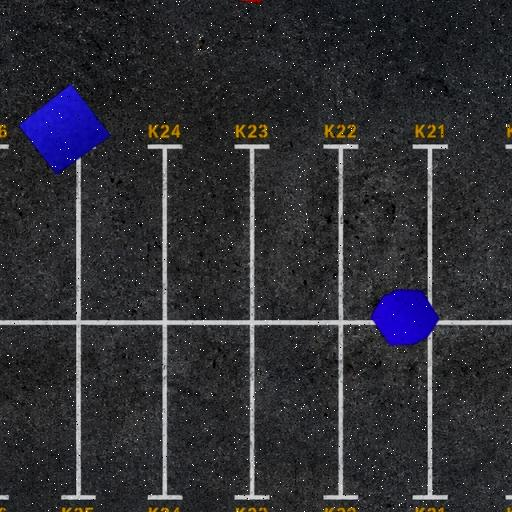BLUE_SQUARE: (18, 83, 112, 175)
